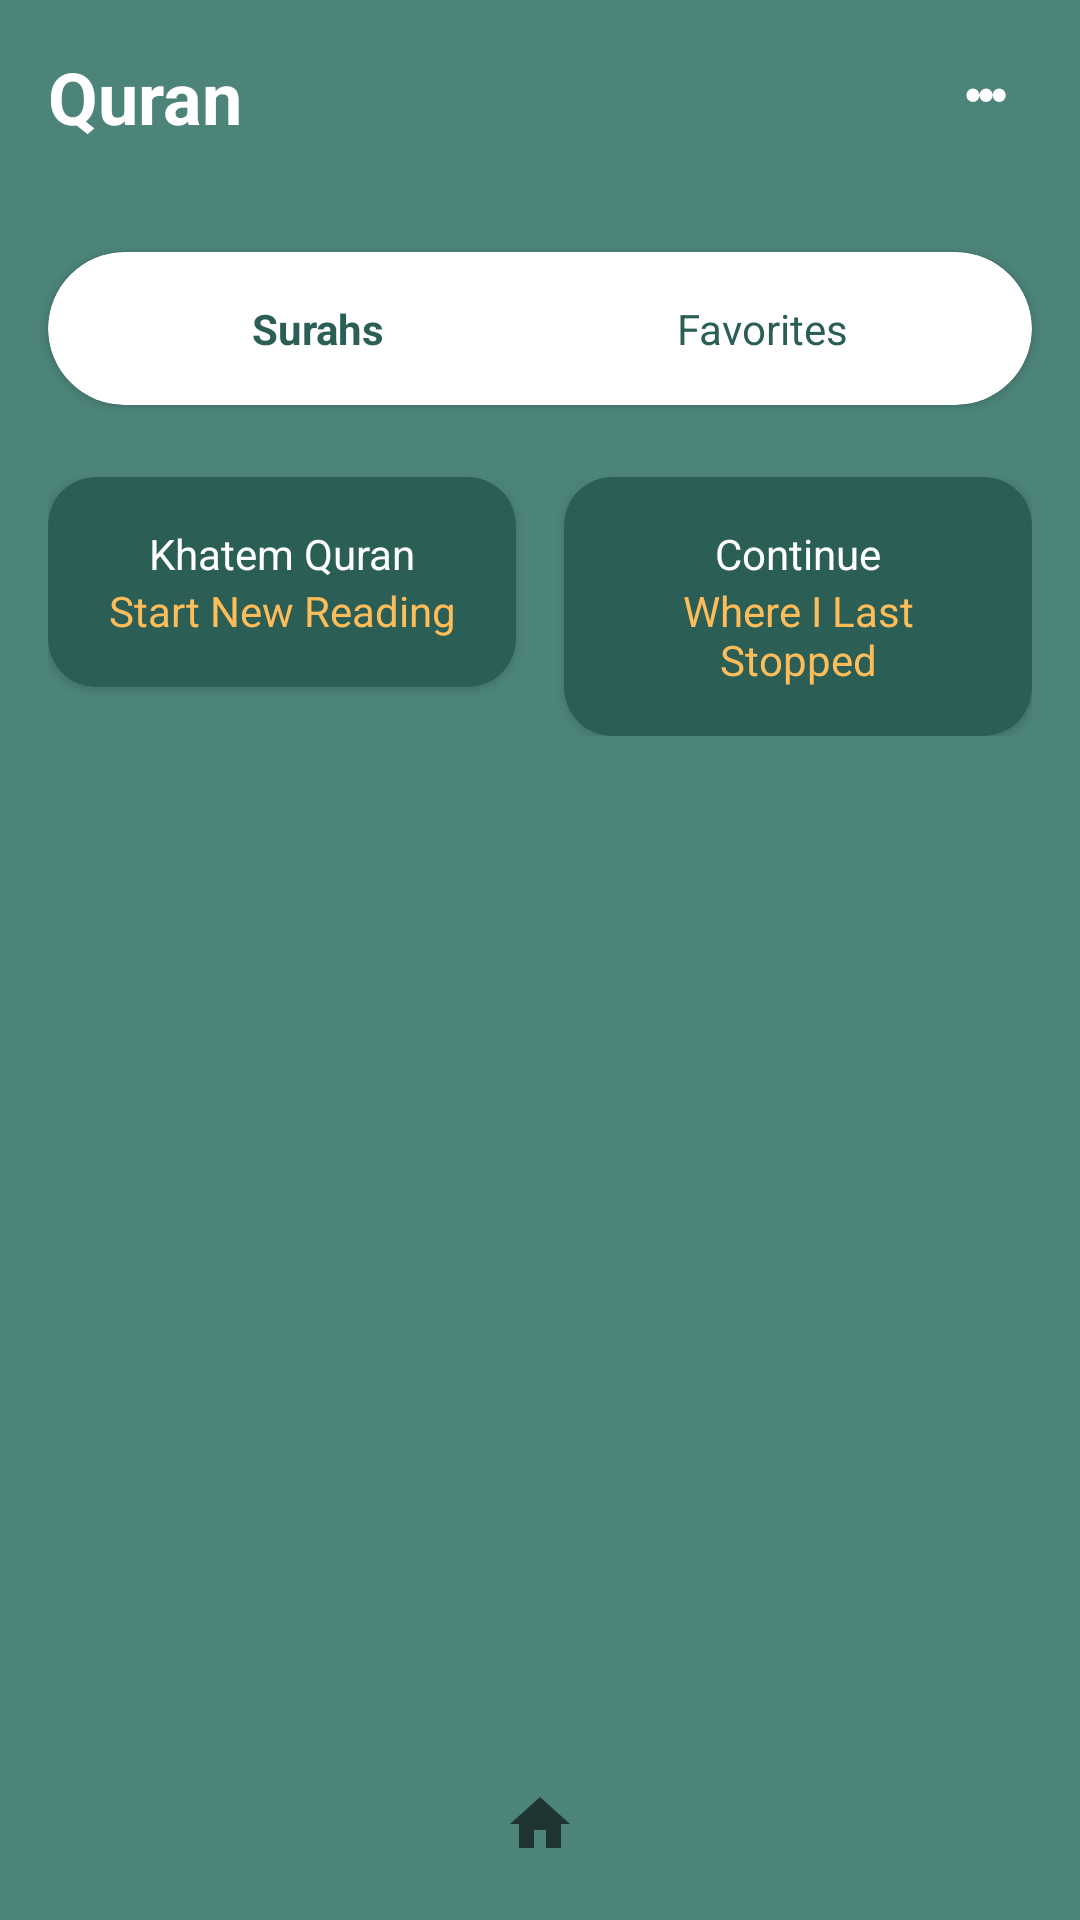

Icons on this 1080px x 1920px Android screen, each with the point to tap as (x,y):
Home: (540,1822)
More Options: (986,95)
